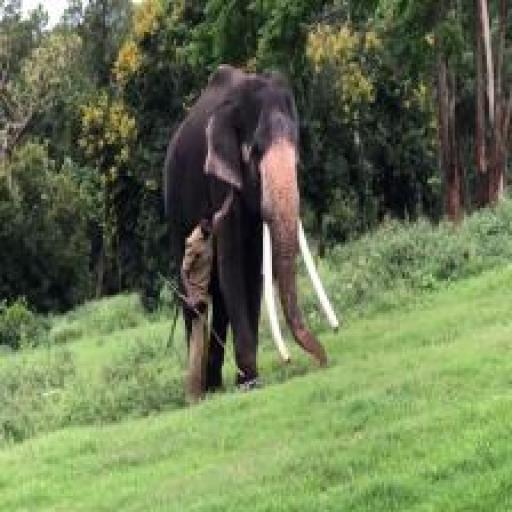Elephant: (213, 60, 354, 401)
